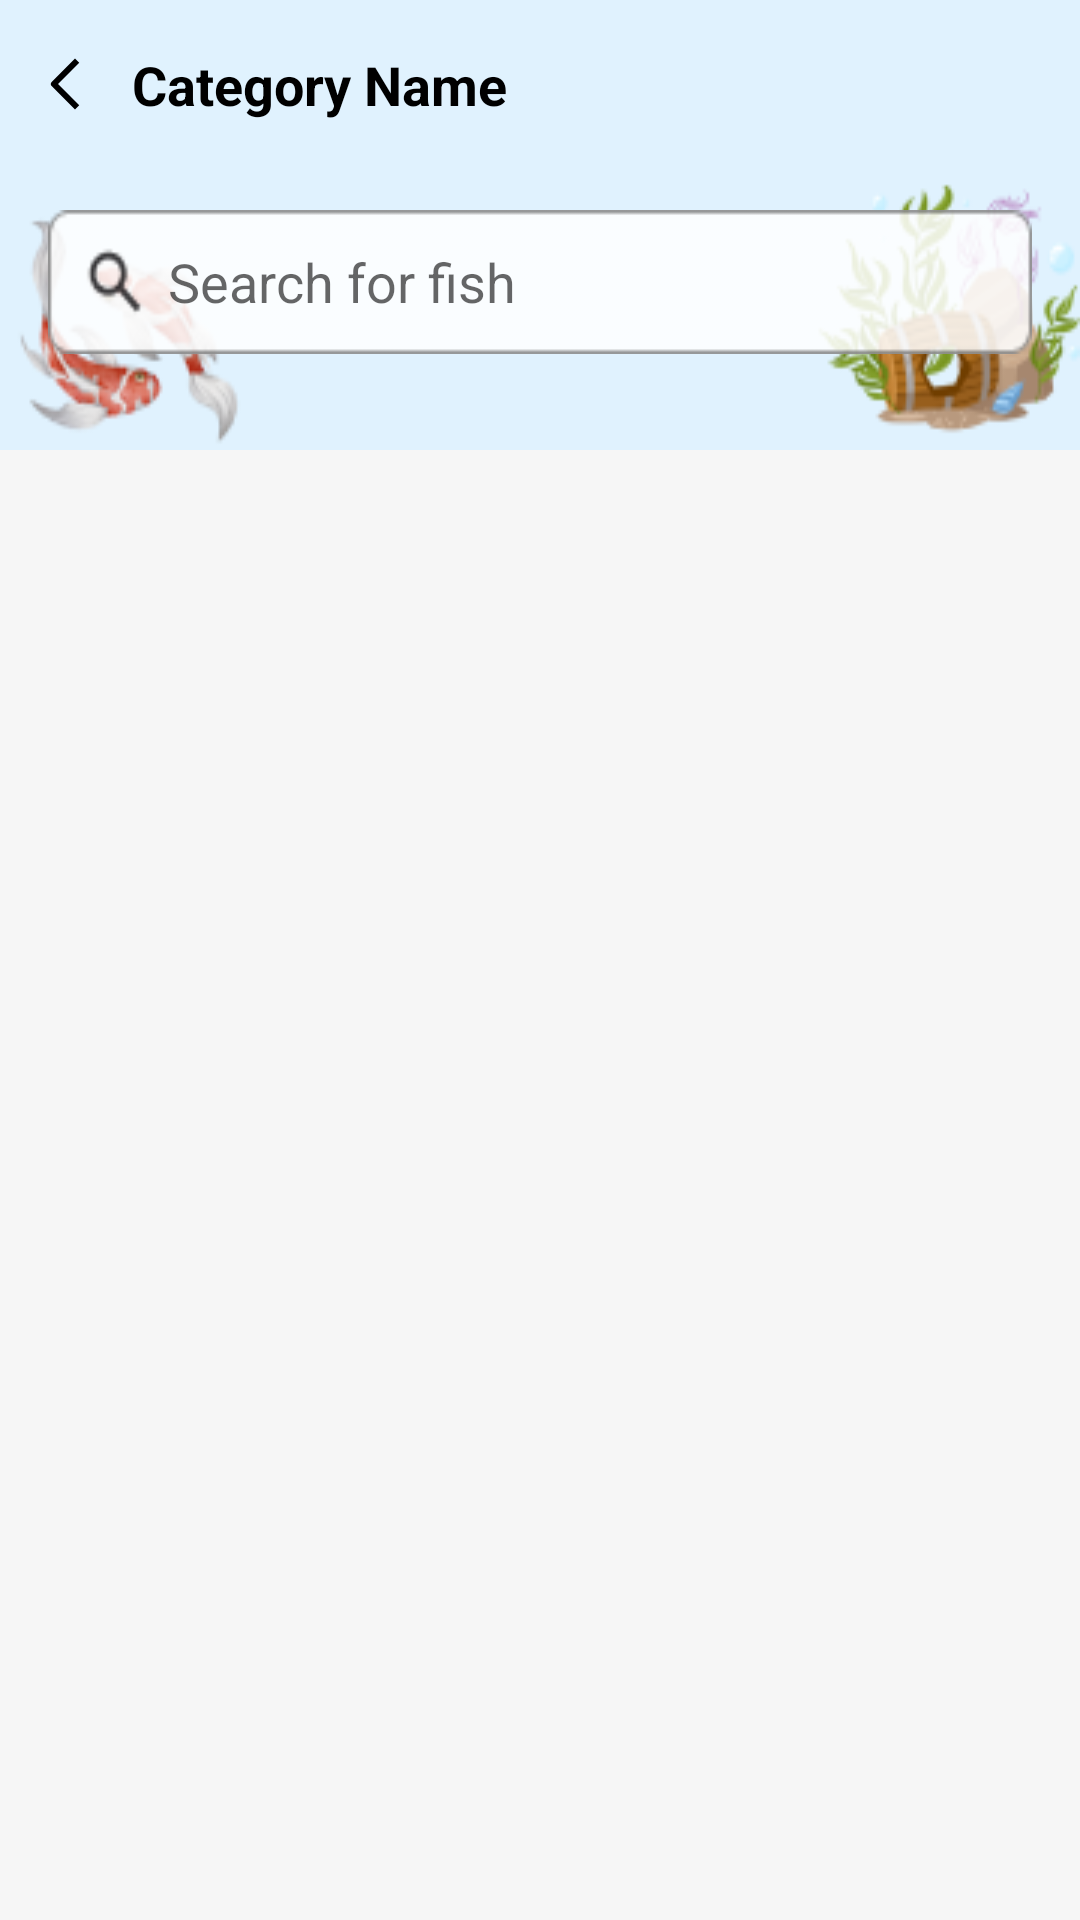

Where icons sit on this 1080 x 1920 app screen, as (x1, y1, x2, y2):
Back: (50, 58, 79, 110)
